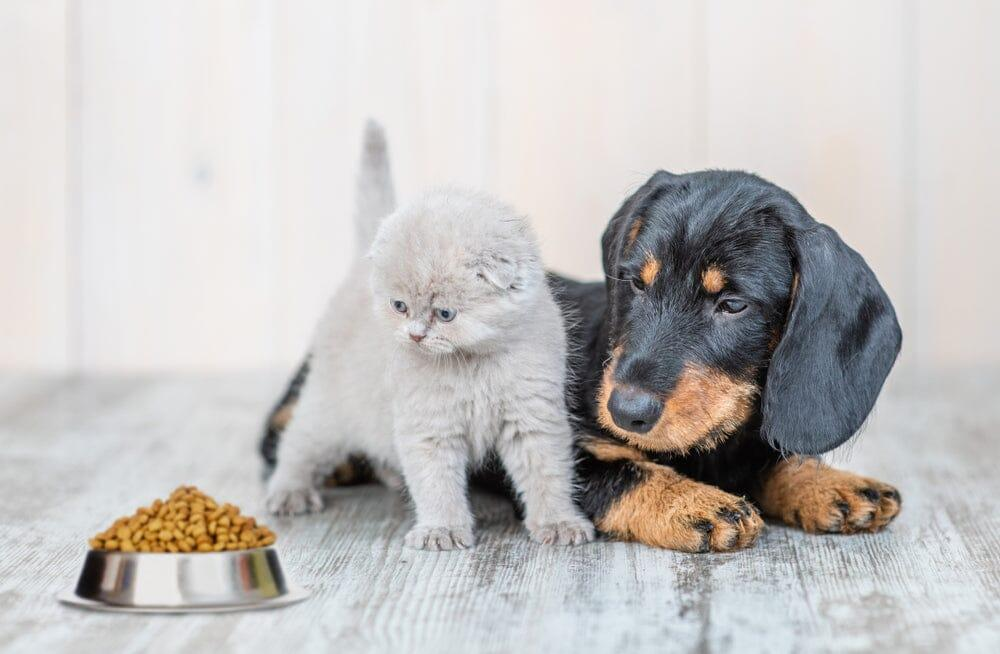cat: (287, 133, 595, 553)
dog: (595, 135, 932, 541), (290, 532, 297, 533)
